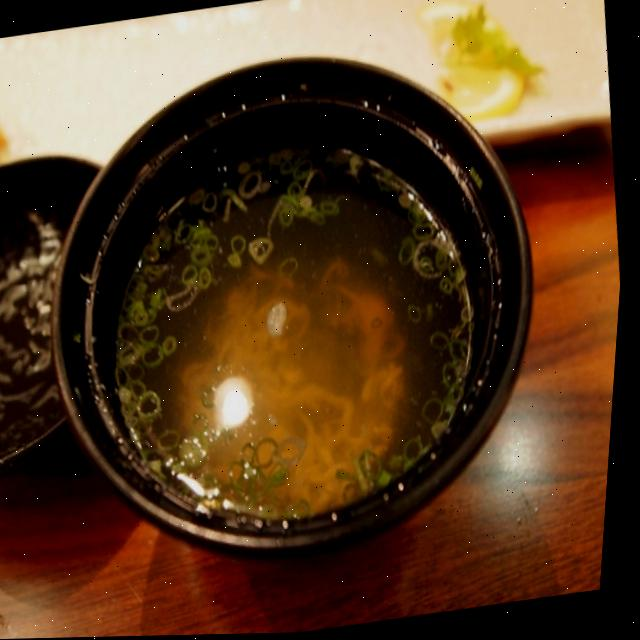汤锅炖物: (10, 5, 587, 582)
